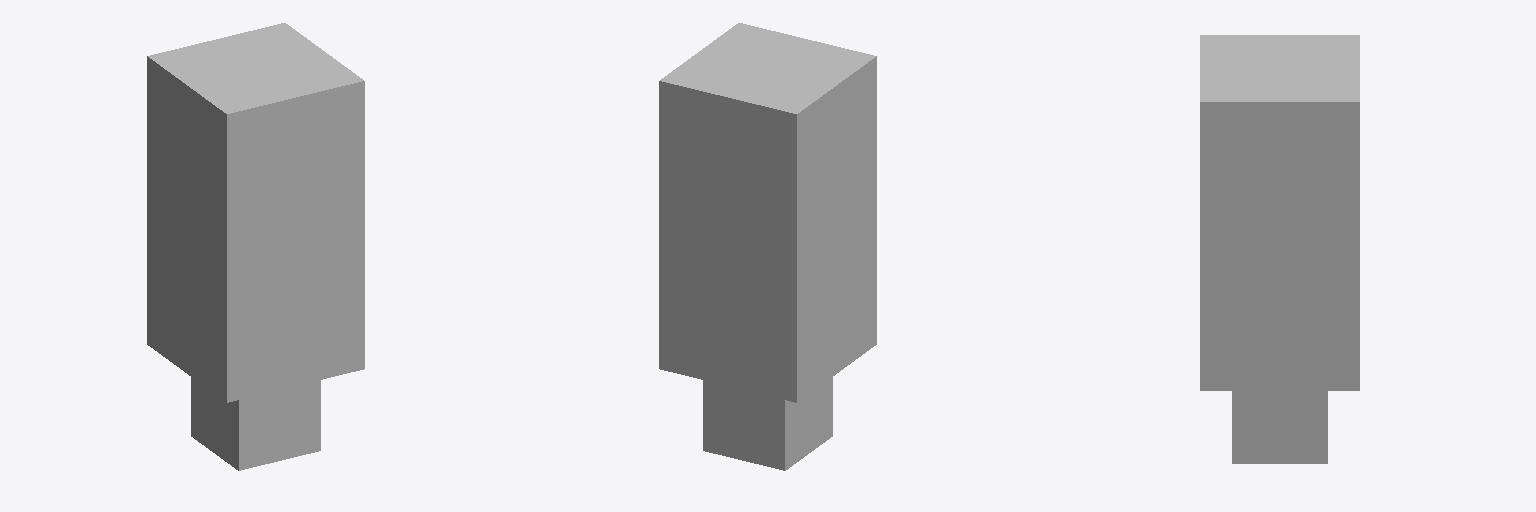
Rendered from lg tree.obj.
The picture shows the model from 3 angles: view 1: azimuth 30°, elevation 25°; view 2: azimuth 150°, elevation 25°; view 3: azimuth 270°, elevation 25°; orthographic projection.
Visible parts, largest first — view 1: lg tree; view 2: lg tree; view 3: lg tree.
Boxes of the visible parts, x1=… form: lg tree: x1=147, y1=23, x2=364, y2=470; lg tree: x1=659, y1=23, x2=876, y2=470; lg tree: x1=1200, y1=35, x2=1359, y2=463.
Size of the model in its own units: 5 by 13 by 5.